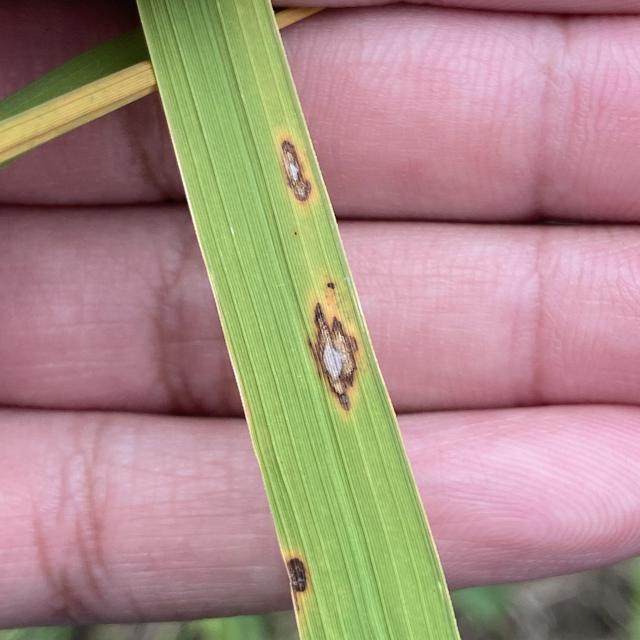Dao on: (314, 302, 358, 411), (281, 140, 312, 202)
